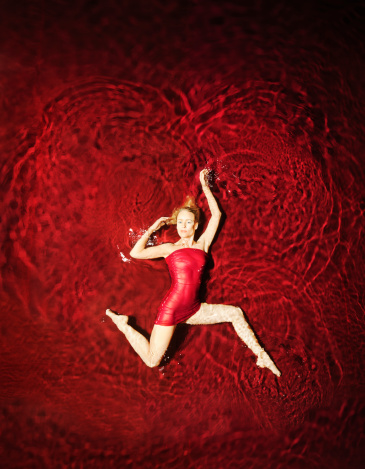deitado: (127, 172, 250, 375)
